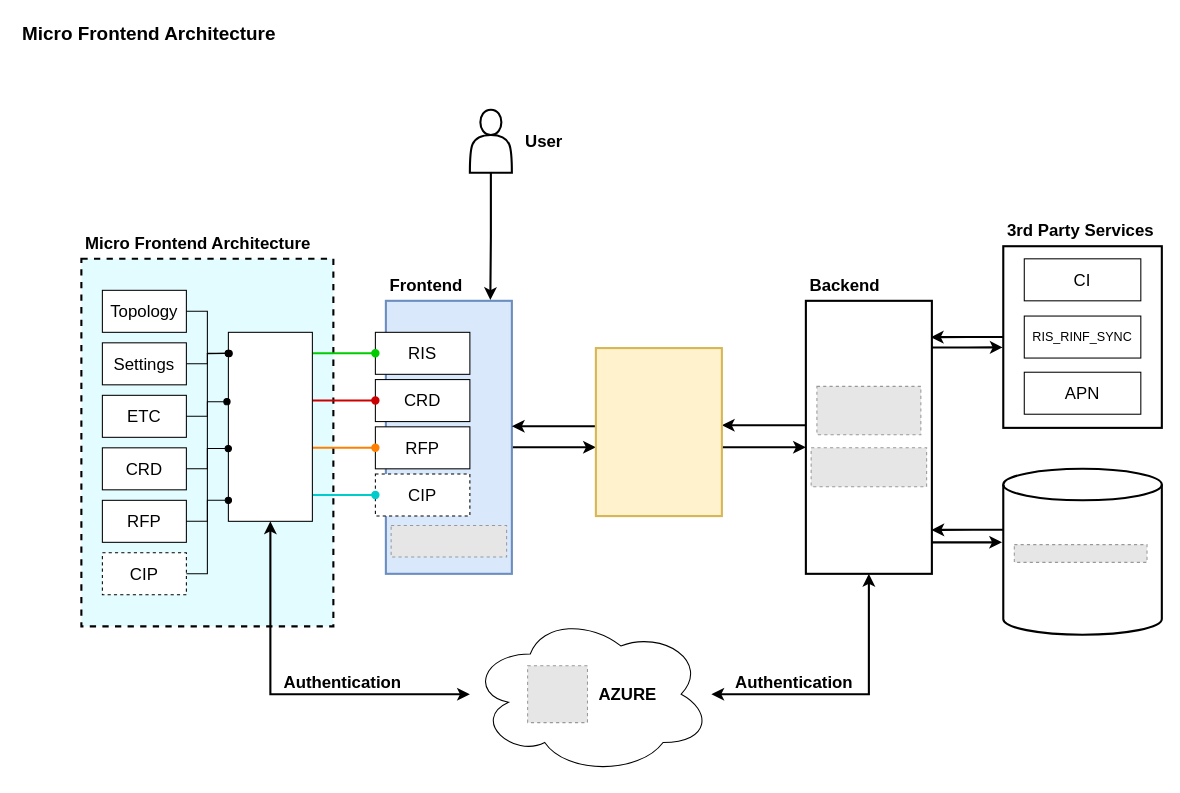
The diagram is 1180 pixels wide and 793 high, and some of its shapes have lost their labels. Grey dashed boxes stand in for pictures. The shapes that lost their labels are listed below. From the top down, each one's centre as x and y in pixels, then its label:
(269,426): HOST
(658,431): REST API
